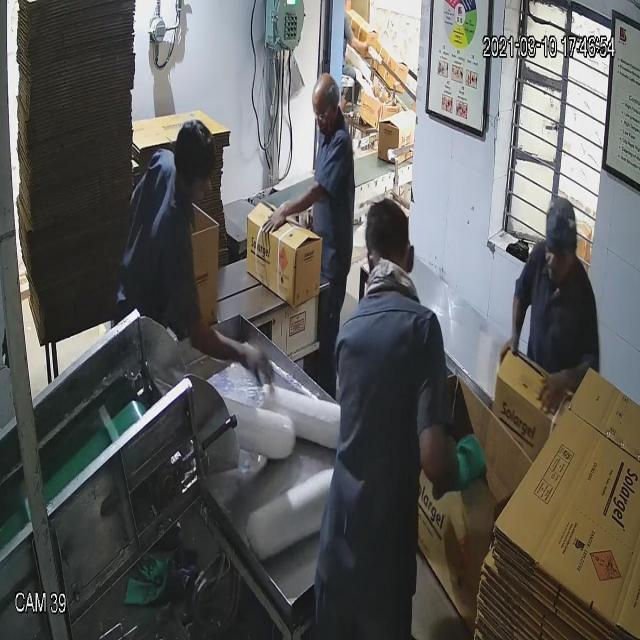Gloves: (59, 59, 566, 448)
